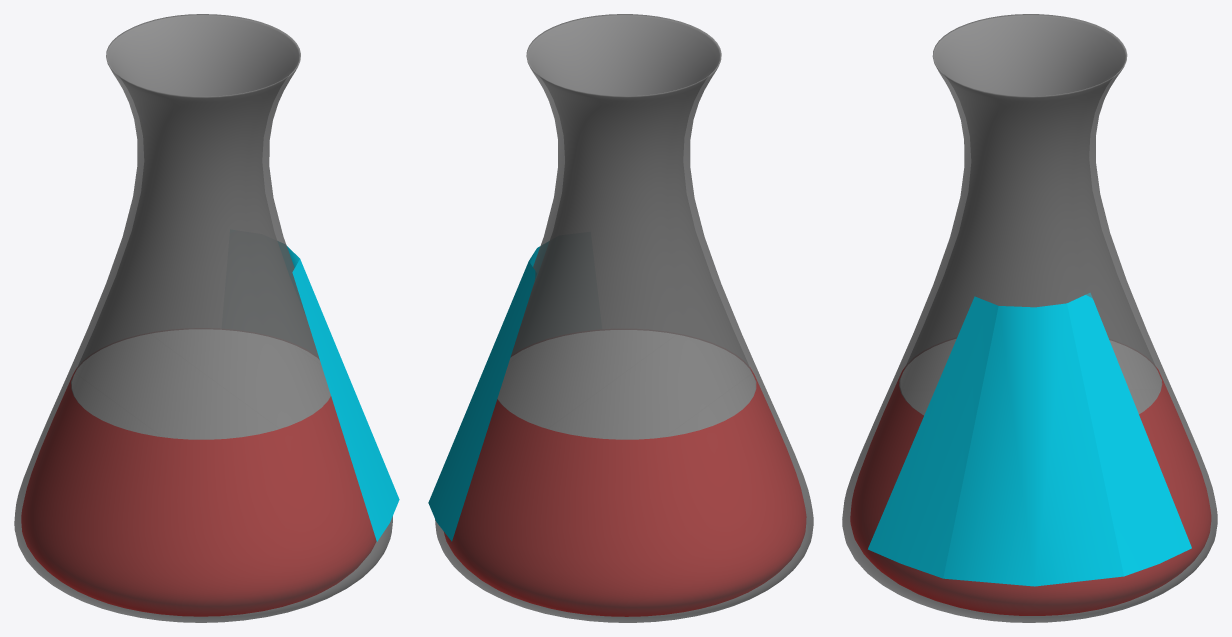
Rendered from SM_锥形瓶.FBX.
3 renders of one model, left to right at view 1: azimuth 30°, elevation 25°; view 2: azimuth 150°, elevation 25°; view 3: azimuth 270°, elevation 25°, orthographic.
Visible parts, largest first — view 1: SM_锥形瓶; view 2: SM_锥形瓶; view 3: SM_锥形瓶.
Boxes of the visible parts, bbox=[...] form: SM_锥形瓶: bbox=[14, 14, 399, 622]; SM_锥形瓶: bbox=[428, 14, 813, 622]; SM_锥形瓶: bbox=[842, 14, 1217, 622].
Size of the model in its own units: 56.44 by 82.18 by 55.13.
